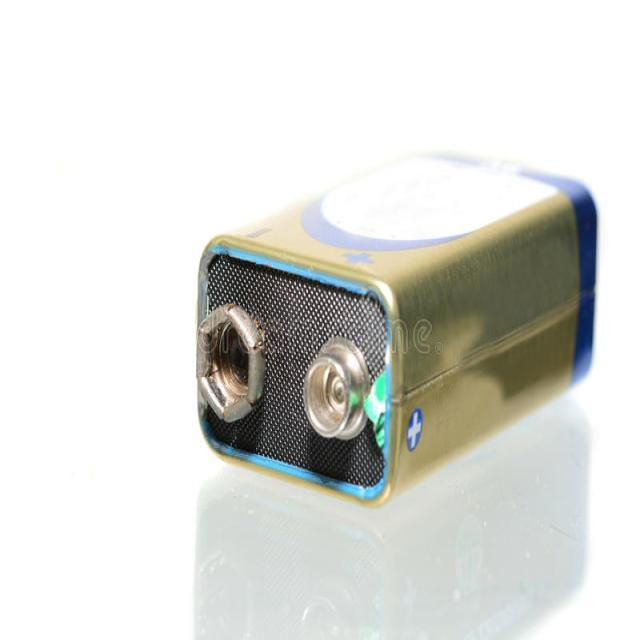Hazard: (179, 119, 603, 506)
